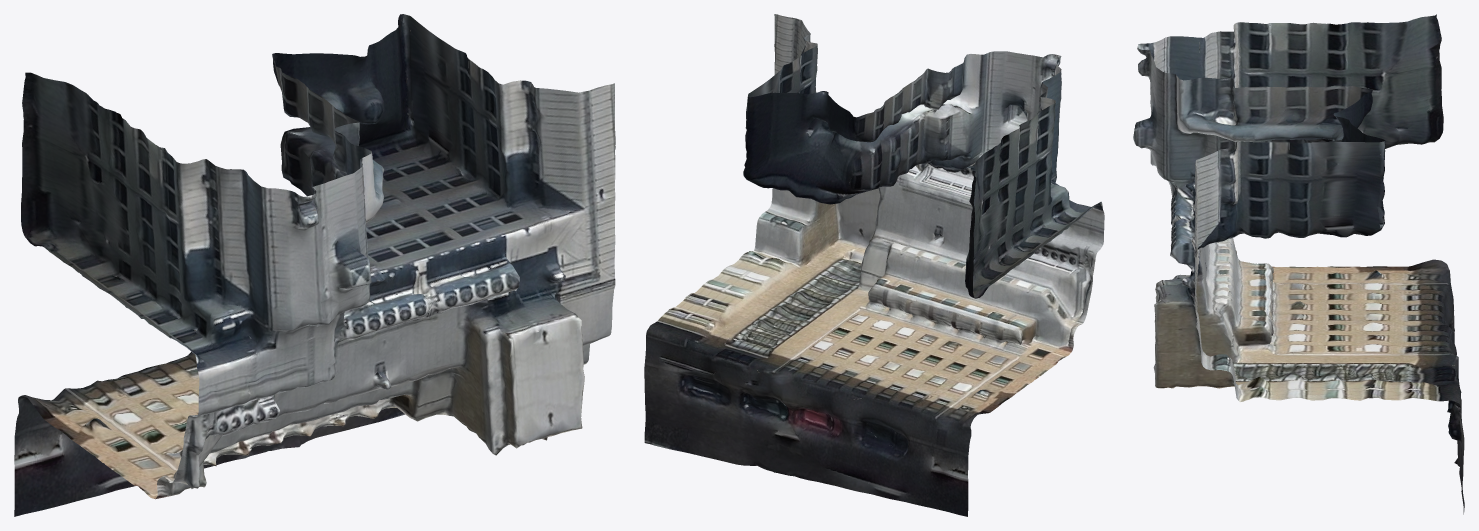
The model's file is Tile_+029_+018_L21_0000200.fbx.
3 views of the same model, side by side, from view 1: azimuth 30°, elevation 25°; view 2: azimuth 150°, elevation 25°; view 3: azimuth 270°, elevation 25° (orthographic). The views are drawn at different scales.
Parts seen in each view (by area): view 1: DefaultName; view 2: DefaultName; view 3: DefaultName.
Boxes of the visible parts, box(x1,y1,x2,y2) form: DefaultName: box(14, 14, 615, 516); DefaultName: box(644, 14, 1104, 516); DefaultName: box(1133, 14, 1464, 514).
Size of the model in its own units: 31.31 by 31.38 by 27.44.
1 material, 1 textured.
